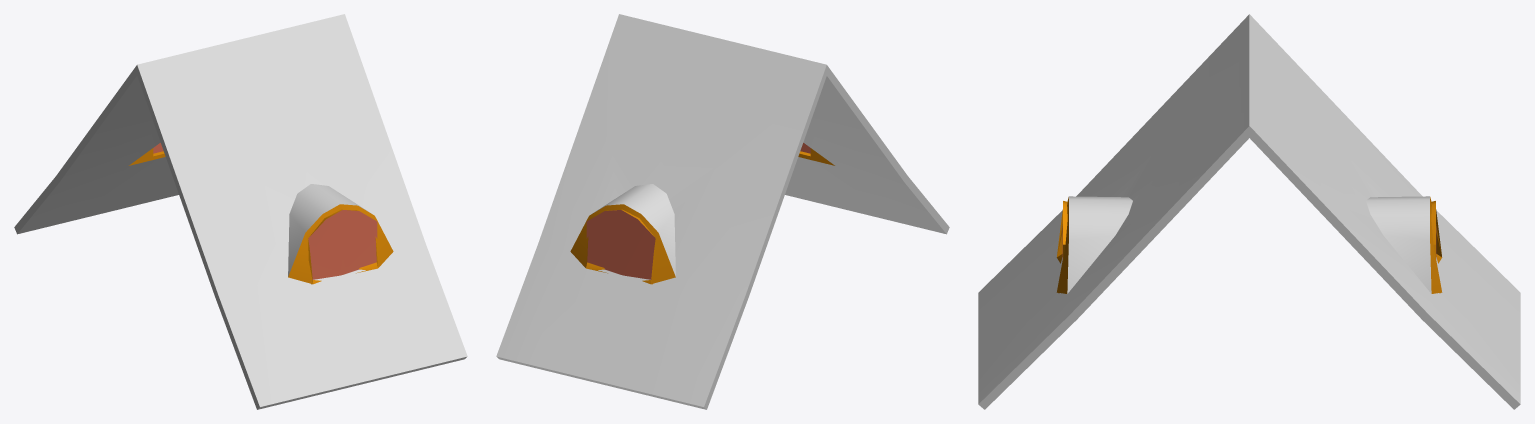
Rendered from toit_fenetre.fbx.
3 views of the same model, side by side, from view 1: azimuth 30°, elevation 25°; view 2: azimuth 150°, elevation 25°; view 3: azimuth 270°, elevation 25° (orthographic). The views are drawn at different scales.
Visible parts, largest first — view 1: toit fenetre; view 2: toit fenetre; view 3: toit fenetre.
Boxes of the visible parts, x1,y1,x2,y2 form: toit fenetre: (14, 14, 467, 409); toit fenetre: (496, 14, 949, 409); toit fenetre: (978, 14, 1520, 409).
Size of the model in its own units: 600 by 711 by 1229.
